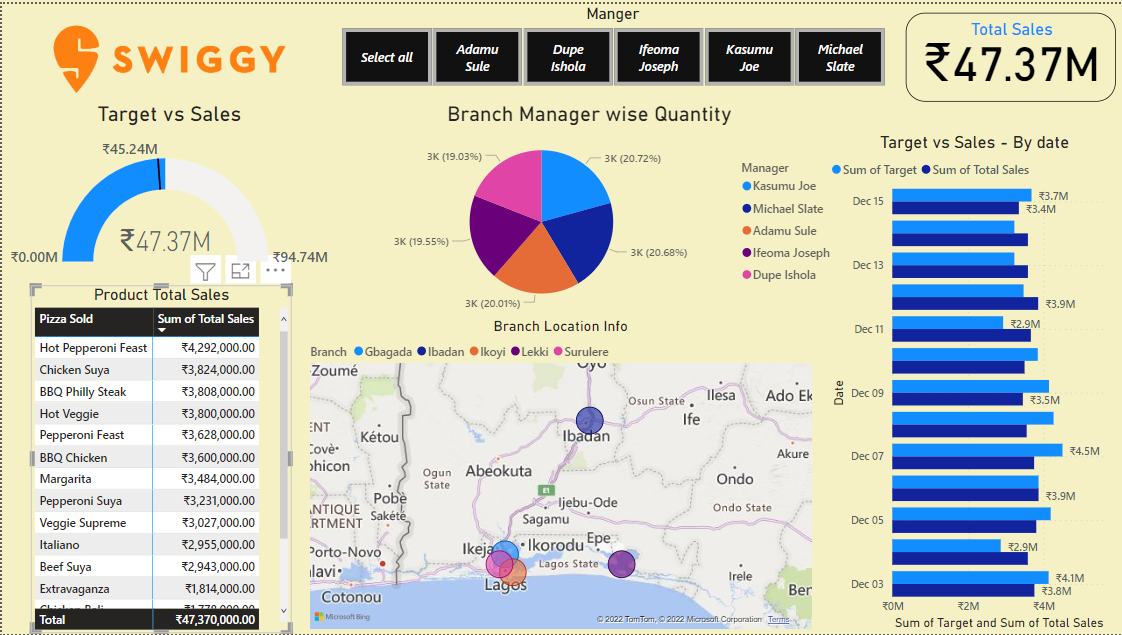

Layout of this report page (visuals, bound fields, positions):
{"tool":"powerbi","page":{"name":"Page 1","canvas":[1280,720],"ordinal":0},"visuals":[{"type":"pivotTable","title":"Product Total Sales","fields":{"Rows":["Sales Data.Pizza Sold"],"Values":["Sales Data.Total Sales"]},"box":[32.9,328.6,298.6,391.4],"z":0},{"type":"slicer","title":"Manger","fields":{"Values":["Branch Data.Manager"]},"box":[300,0,732.9,100],"z":1000},{"type":"gauge","title":"Target vs Sales","fields":{"Y":["Sales Data.Total Sales"],"TargetValue":["Sales Target.Total Sales Target"]},"box":[0,111.4,362.9,217.1],"z":2000},{"type":"clusteredBarChart","title":"Target vs Sales - By date","fields":{"Category":["Sales Data.Date"],"Y":["Daily Target.Target","Sales Data.Total Sales"]},"box":[942.9,147.1,337.1,572.9],"z":3000},{"type":"map","title":"Branch Location Info","fields":{"X":["Branch Data.Longitude"],"Y":["Branch Data.Lattitude"],"Series":["Branch Data.Branch"]},"box":[347.1,357.1,582.9,362.9],"z":4000},{"type":"pieChart","title":"Branch Manager wise Quantity","fields":{"Category":["Branch Data.Manager"],"Y":["Sales Data.Quantity"],"Series":["Sales Data.Branch"]},"box":[408.6,111.4,551.4,248.6],"z":5000},{"type":"card","title":"Total Sales","fields":{"Values":["Sales Data.Total Sales"]},"box":[1032.9,10,240,101.4],"z":6000},{"type":"image","box":[0,18.6,308.6,90],"z":6001}]}

Visuals, with their boxes in screenshot pixels (x1, y1, x2, y2), scaled from the page's 1280x720 canvas onto the 1122x635 screenshot:
"Product Total Sales" pivotTable: locate(29, 290, 291, 634)
"Manger" slicer: locate(263, 0, 905, 88)
"Target vs Sales" gauge: locate(0, 98, 318, 290)
"Target vs Sales - By date" clusteredBarChart: locate(827, 130, 1121, 634)
"Branch Location Info" map: locate(304, 315, 815, 634)
"Branch Manager wise Quantity" pieChart: locate(358, 98, 842, 318)
"Total Sales" card: locate(905, 9, 1116, 98)
image: locate(0, 16, 271, 96)
